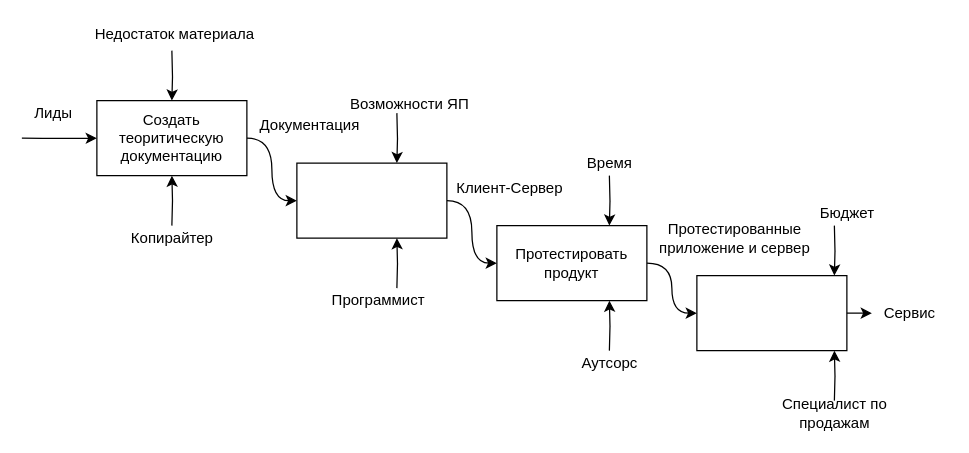
The diagram is 969 pixels wide and 453 high, and some of its shapes have lost their labels. The shapes that lost their labels are listed below. From the top down, each one's centre as x and y in pixels, then its label:
(371,200): Разработать программную архитектуру
(771,312): Продвигать сервис
